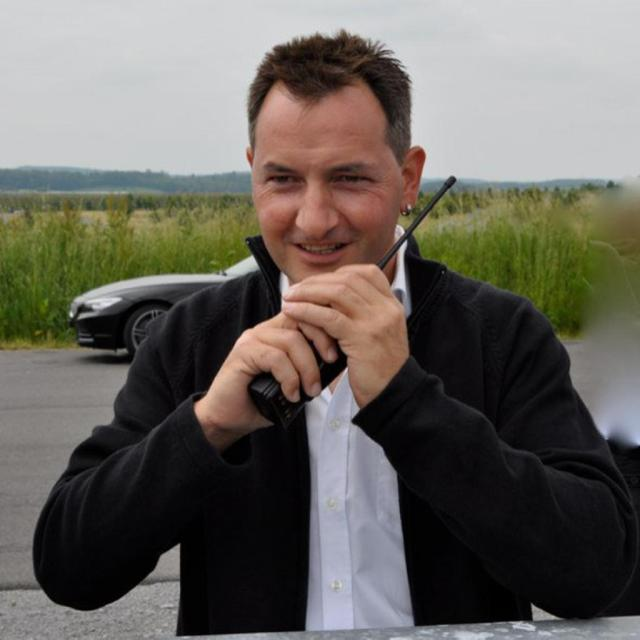Face: (249, 87, 440, 284)
